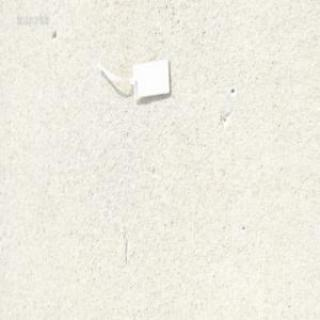LuggageTagtrack_idkeyframe: (94, 53, 170, 102)
